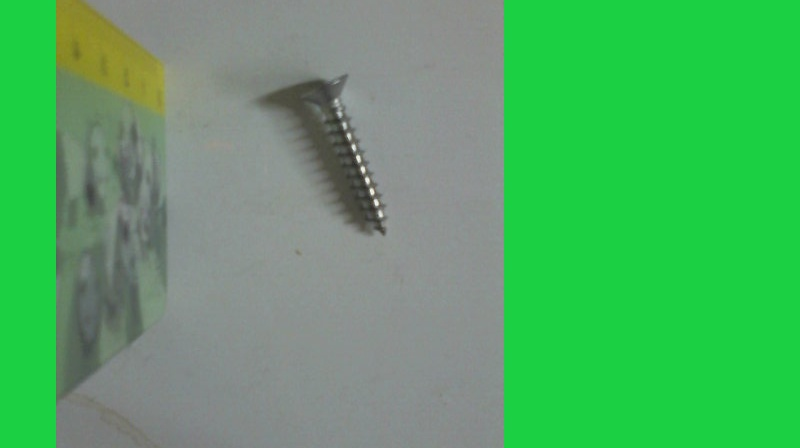S001: (300, 67, 393, 239)
